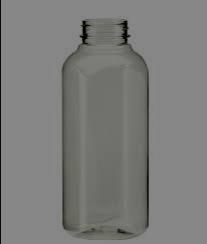Plastic: (60, 13, 152, 242)
